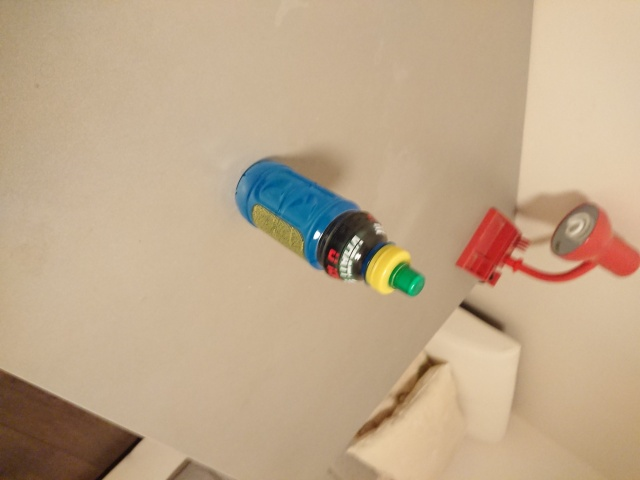Vindi Iso Sport Forest Strawberries 500mL: (232, 158, 426, 297)
